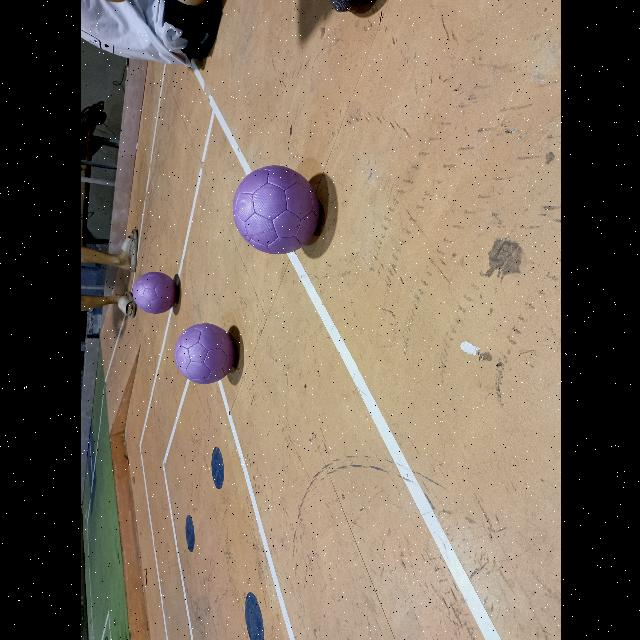P: (232, 166, 318, 254), (173, 324, 234, 384), (131, 272, 175, 314)
